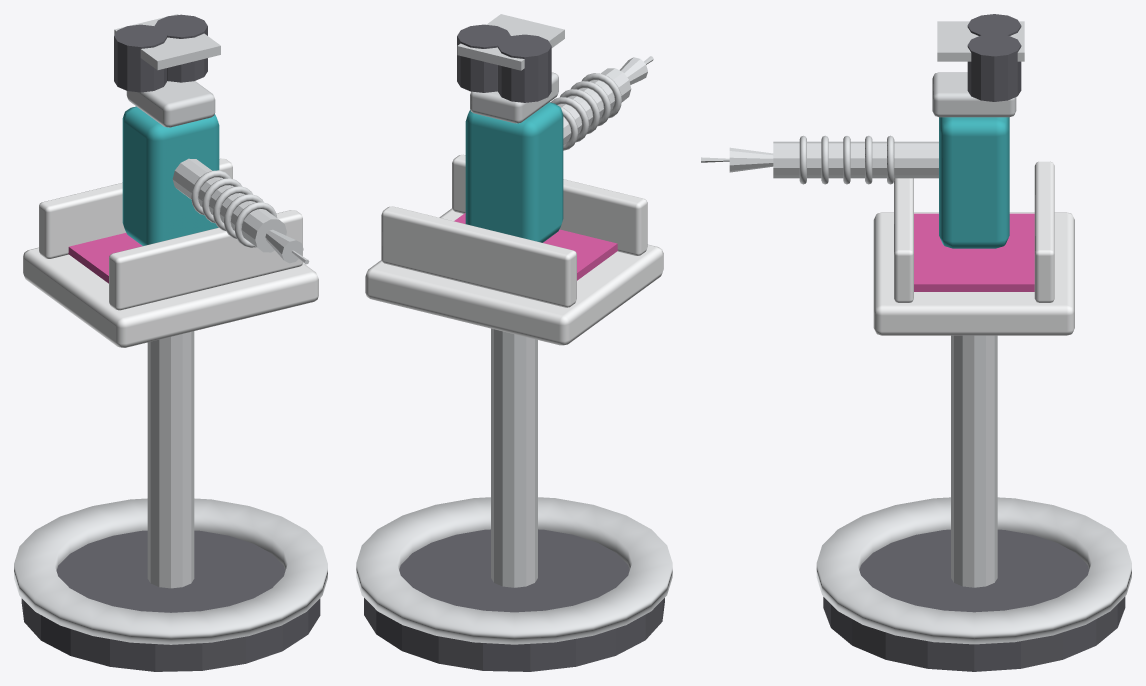
File: tattoo-and-piercing-studio-tattoo-machine-stand-cf77d28d__34520.glb
The picture shows the model from 3 angles, left to right: view 1: azimuth 30°, elevation 25°; view 2: azimuth 150°, elevation 25°; view 3: azimuth 270°, elevation 25°; orthographic projection.
Parts seen in each view (by area): view 1: tattoo-machine-stand; view 2: tattoo-machine-stand; view 3: tattoo-machine-stand.
Boxes of the visible parts, bbox=[...] form: tattoo-machine-stand: bbox=[14, 14, 327, 671]; tattoo-machine-stand: bbox=[356, 14, 672, 671]; tattoo-machine-stand: bbox=[701, 14, 1131, 671].
Size of the model in its own units: 0.188 by 0.3772 by 0.257.
